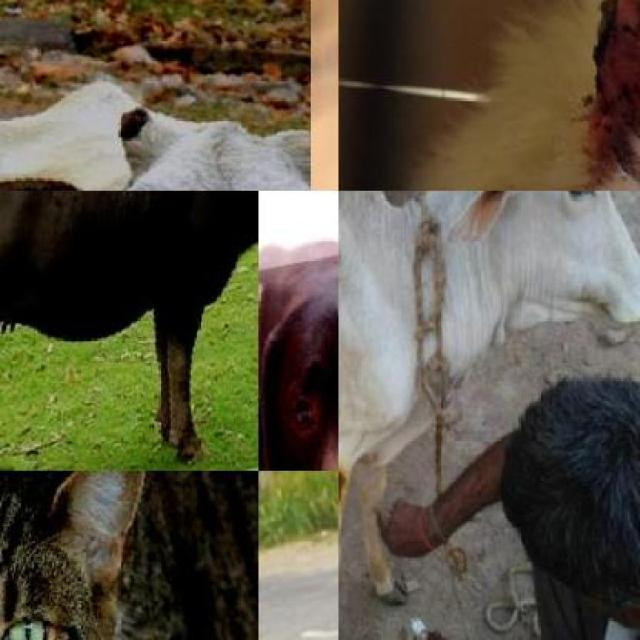buffalo: (0, 191, 258, 471)
cat: (392, 0, 640, 191), (0, 471, 258, 640)
cow: (338, 191, 640, 611), (0, 0, 311, 191)
dog: (258, 220, 338, 471)
injured: (574, 17, 640, 191), (338, 449, 368, 509)
